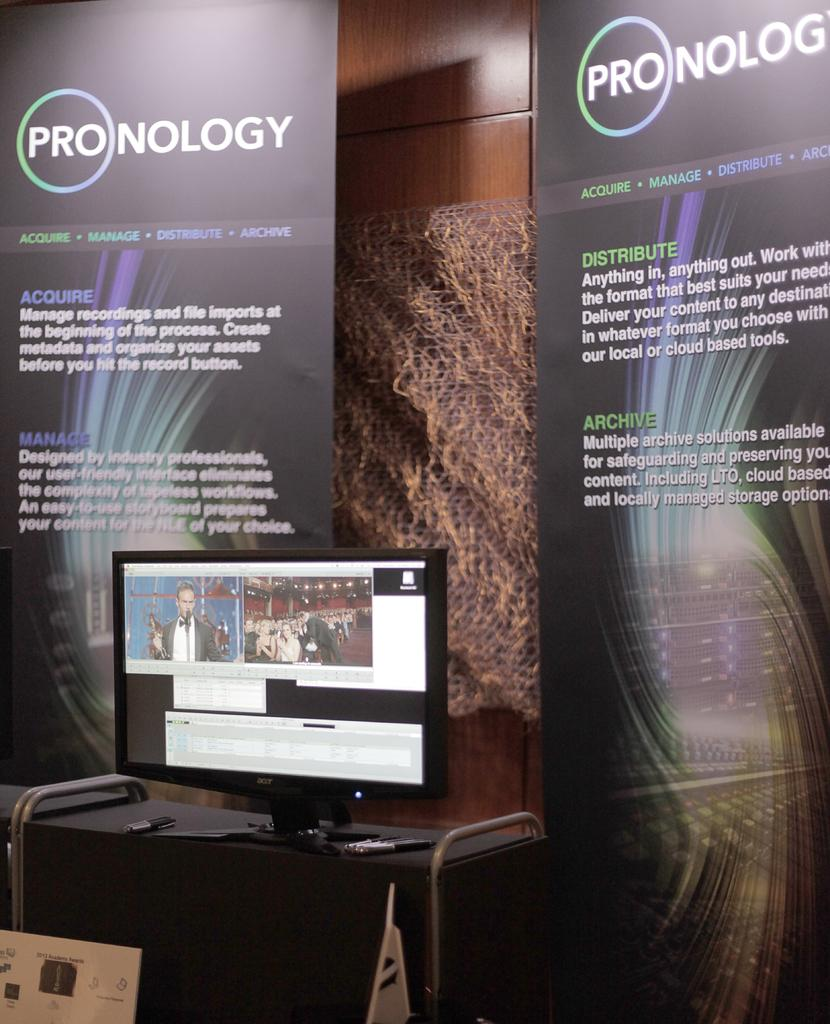Computer-monitor: (87, 560, 457, 860)
